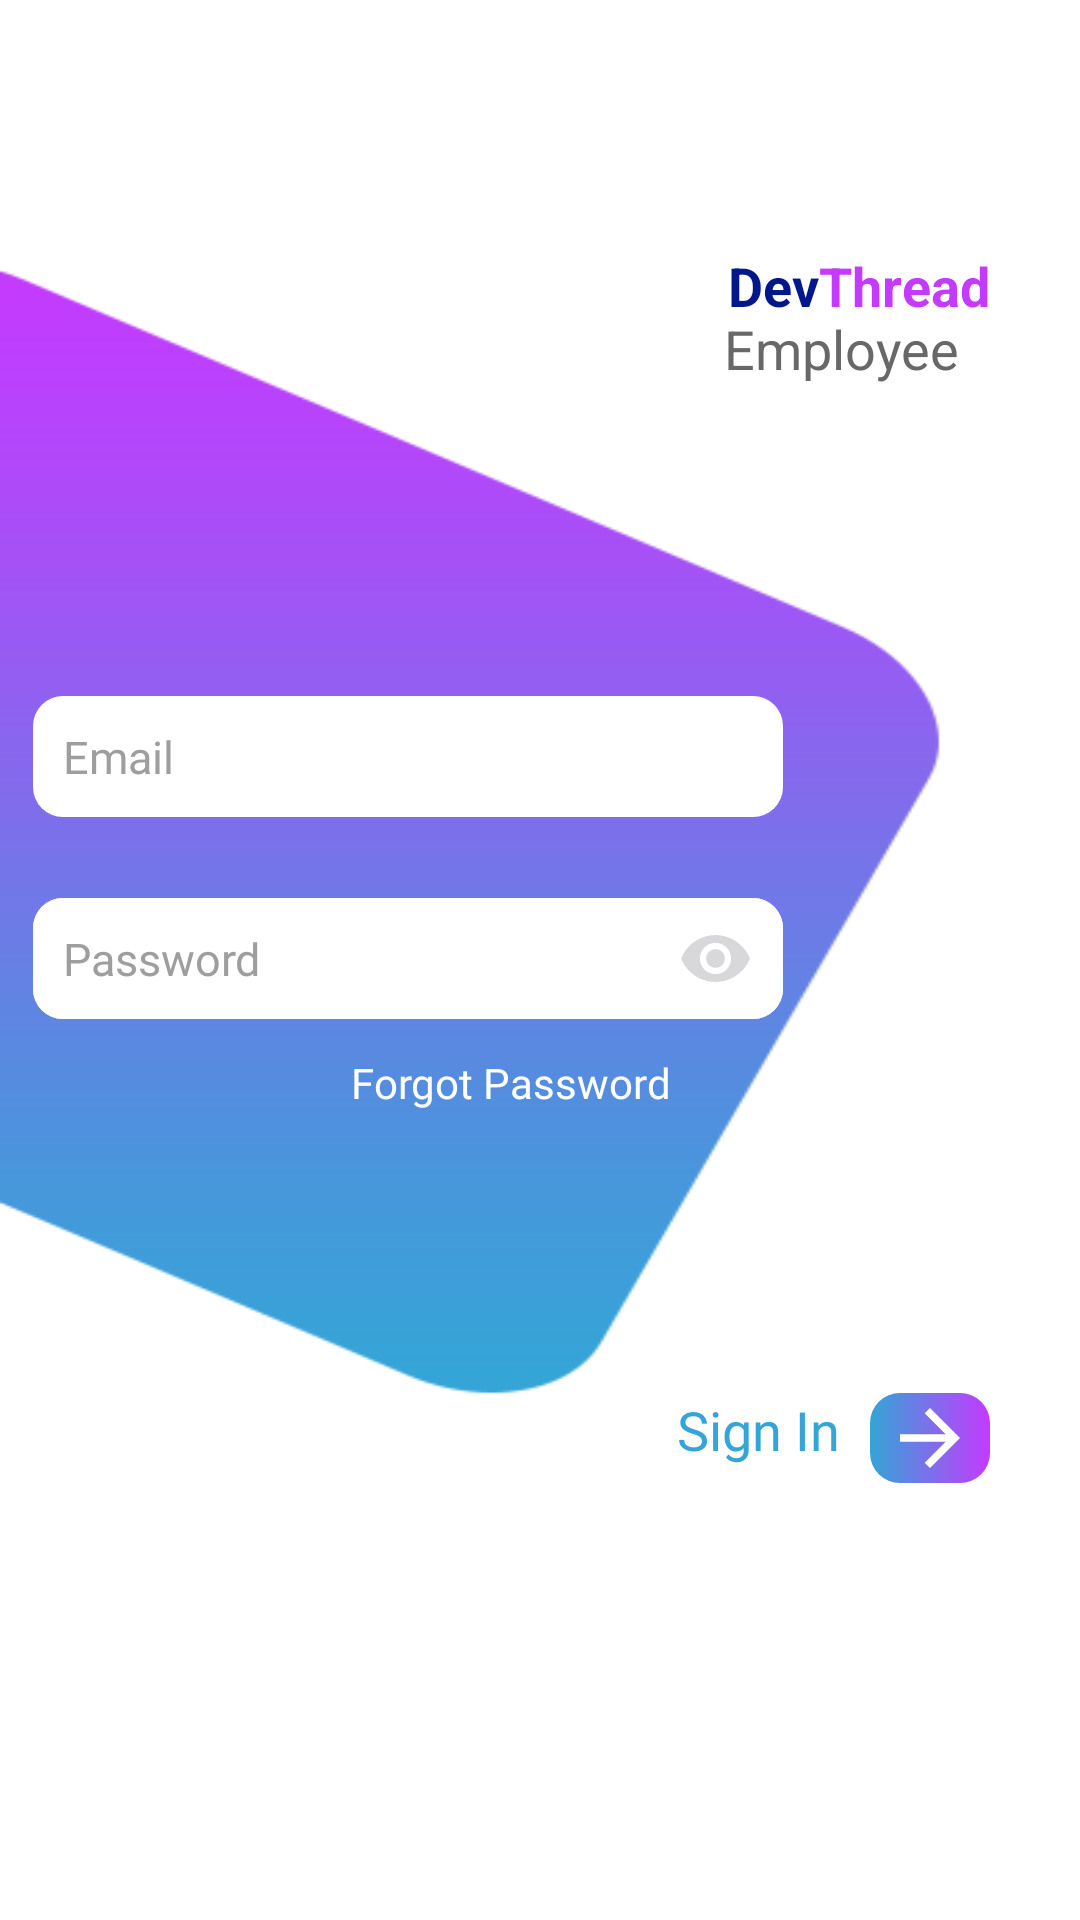

Icons on this 1080px x 1920px Android screen, each with the point to tap as (x=x, y=y):
arrow forward: (x=930, y=1438)
